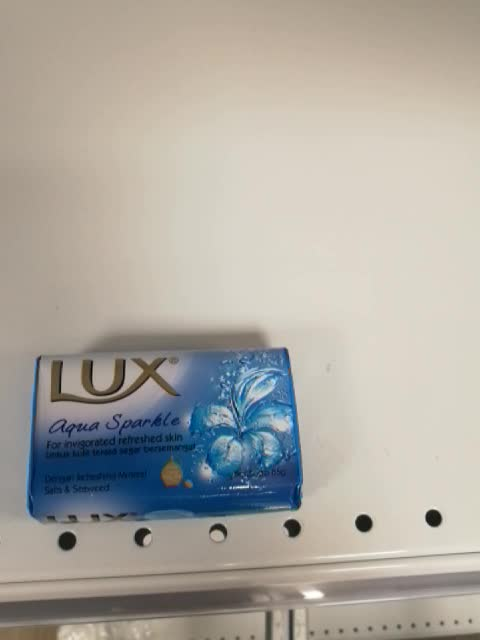soap: (25, 344, 304, 527)
